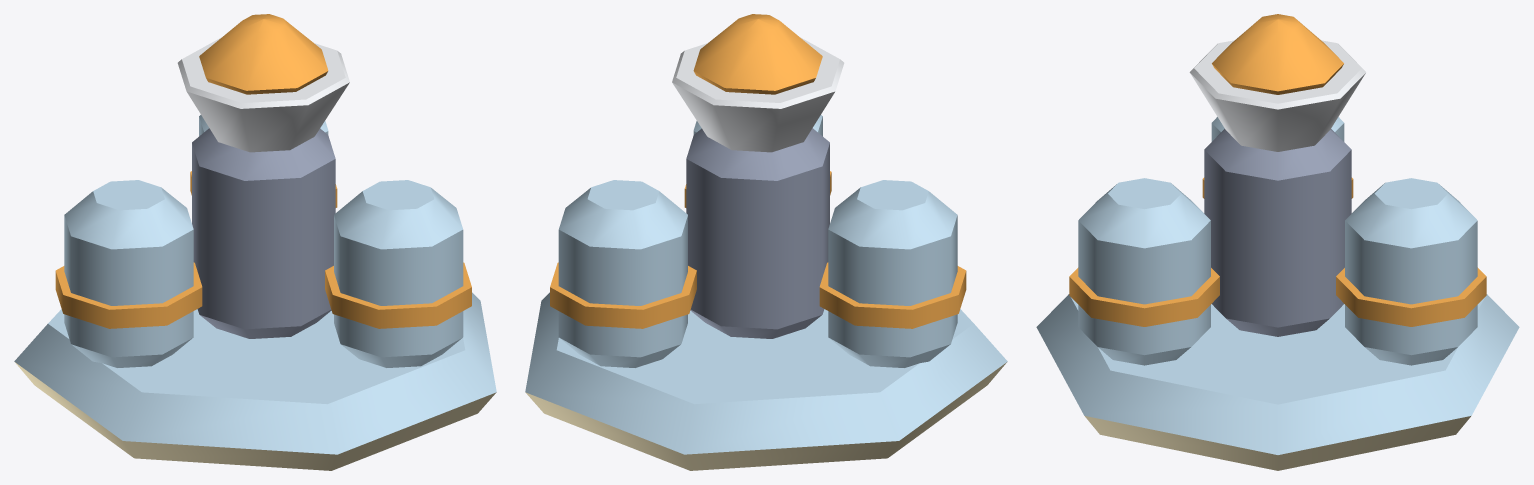
Rendered from R4D_BurnTrap_LOD1.glb.
The picture shows the model from 3 angles, left to right: view 1: azimuth 30°, elevation 25°; view 2: azimuth 150°, elevation 25°; view 3: azimuth 270°, elevation 25°; orthographic projection.
Parts seen in each view (by area): view 1: R4D_BurnTrap_LOD1; view 2: R4D_BurnTrap_LOD1; view 3: R4D_BurnTrap_LOD1.
Boxes of the visible parts, x1,y1,x2,y2 form: R4D_BurnTrap_LOD1: [14, 14, 496, 470]; R4D_BurnTrap_LOD1: [525, 14, 1007, 470]; R4D_BurnTrap_LOD1: [1036, 14, 1519, 470].
Size of the model in its own units: 0.3562 by 0.2928 by 0.3607.
